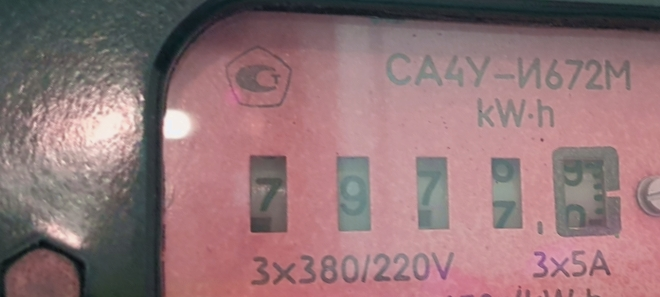0: (563, 201, 588, 231)
7: (251, 172, 287, 219), (490, 192, 522, 235), (416, 167, 447, 210)
9: (337, 172, 370, 221), (560, 157, 591, 190)
screen: (233, 123, 641, 271)
